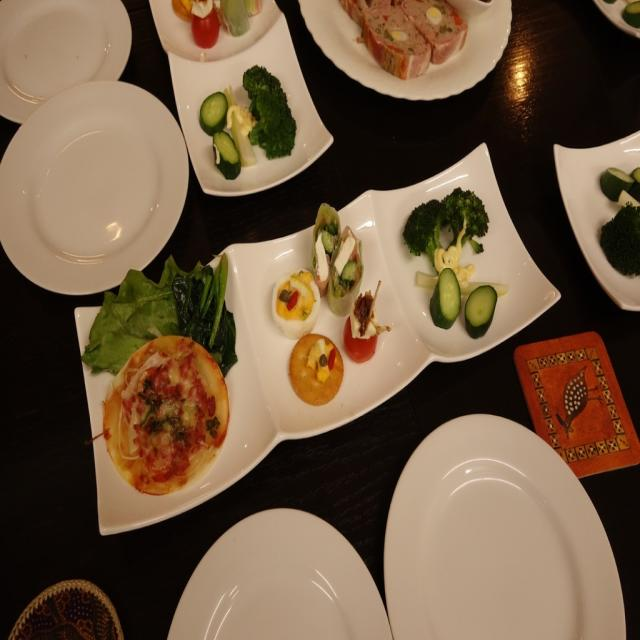non-organic waste: (373, 376, 640, 640), (6, 68, 181, 296), (170, 487, 388, 640)
